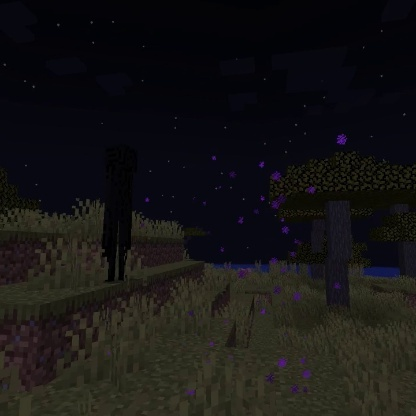enderman: (98, 142, 139, 283)
